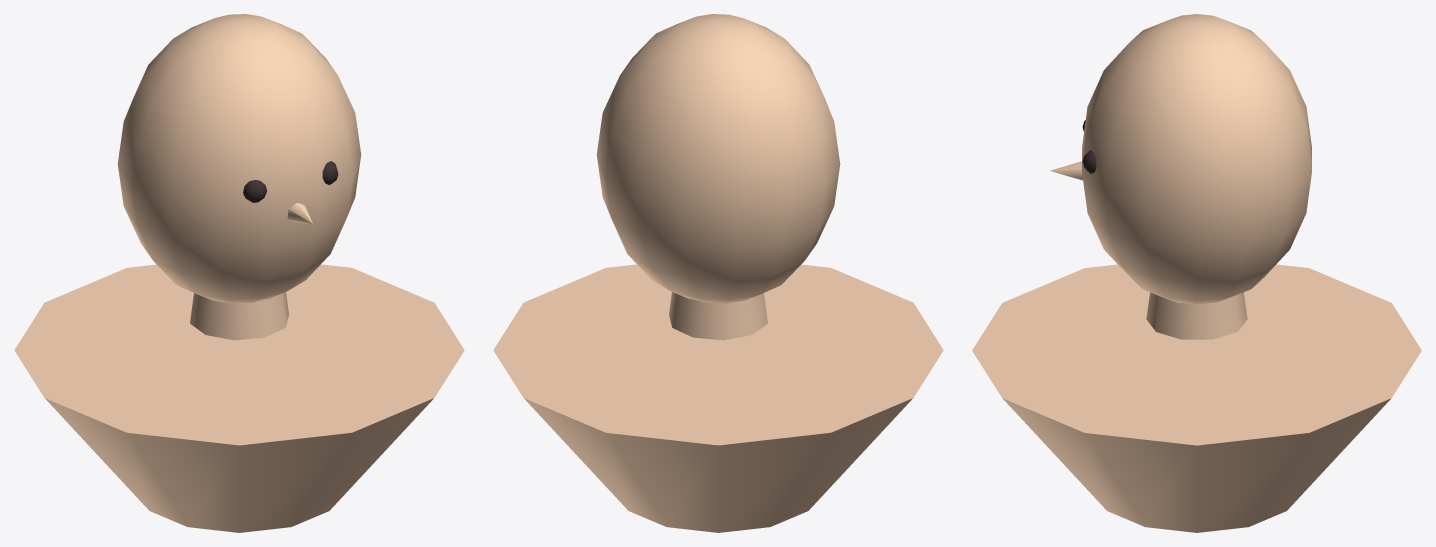
File: raw_002.glb
3 views of the same model, side by side, from view 1: azimuth 30°, elevation 25°; view 2: azimuth 150°, elevation 25°; view 3: azimuth 270°, elevation 25° (orthographic).
Bounding box in the file's own units: 1.87 × 2.13 × 1.87.
